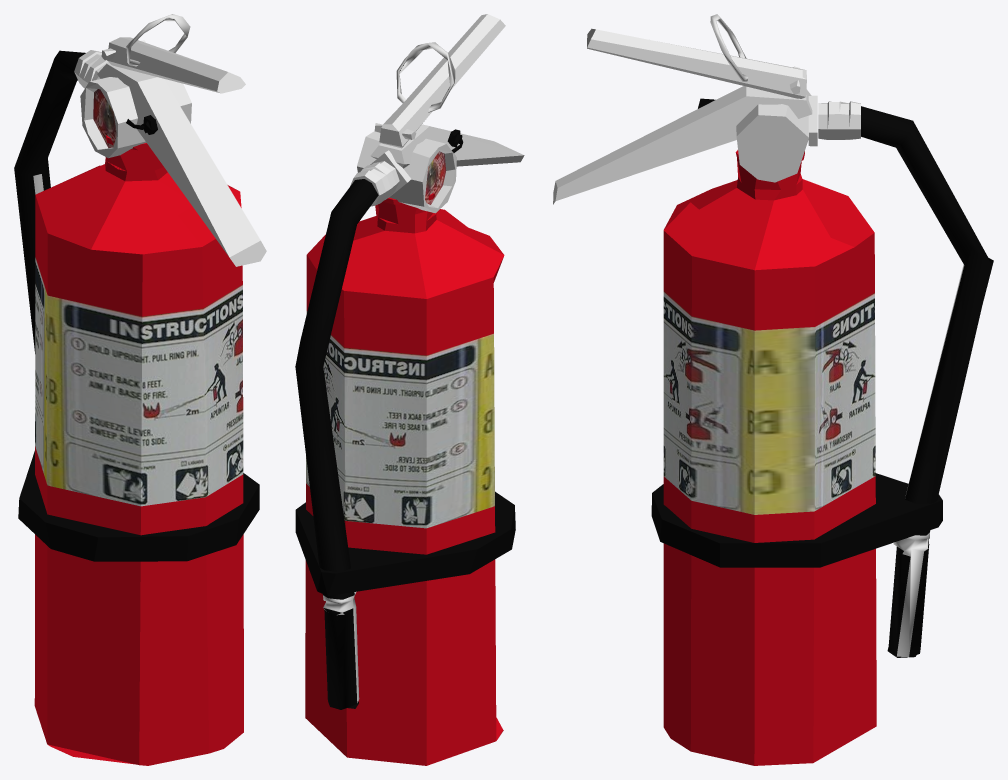
The model's file is fire_extinguisher.gltf.
3 renders of one model, left to right at view 1: azimuth 30°, elevation 25°; view 2: azimuth 150°, elevation 25°; view 3: azimuth 270°, elevation 25°, orthographic. The views are drawn at different scales.
Parts seen in each view (by area): view 1: fire extinguisher; view 2: fire extinguisher; view 3: fire extinguisher.
Part boxes in pixels (x1,y1,x2,y2): fire extinguisher: (14,14,266,765); fire extinguisher: (295,14,524,765); fire extinguisher: (553,14,993,765).
Size of the model in its own units: 0.242 by 0.8428 by 0.4766.
Materials: 4 (1 with a texture image).
